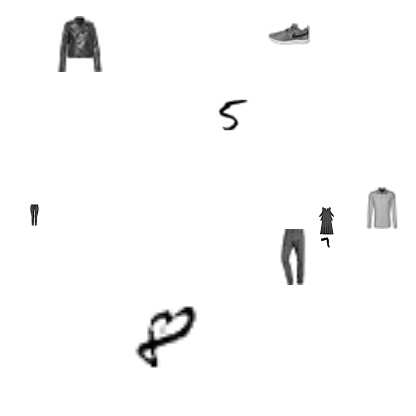5: (209, 91, 251, 133)
7: (319, 234, 333, 248)
8: (121, 292, 205, 376)
Coat: (52, 16, 108, 72)
Dress: (312, 207, 340, 235)
Shirt: (361, 187, 403, 229)
Sneaker: (268, 13, 310, 55)
Trouser: (265, 229, 321, 285), (23, 204, 45, 226)
